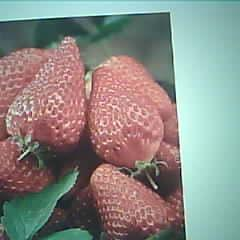straw-ripe: (7, 38, 86, 149), (89, 69, 163, 164), (90, 164, 168, 240)
